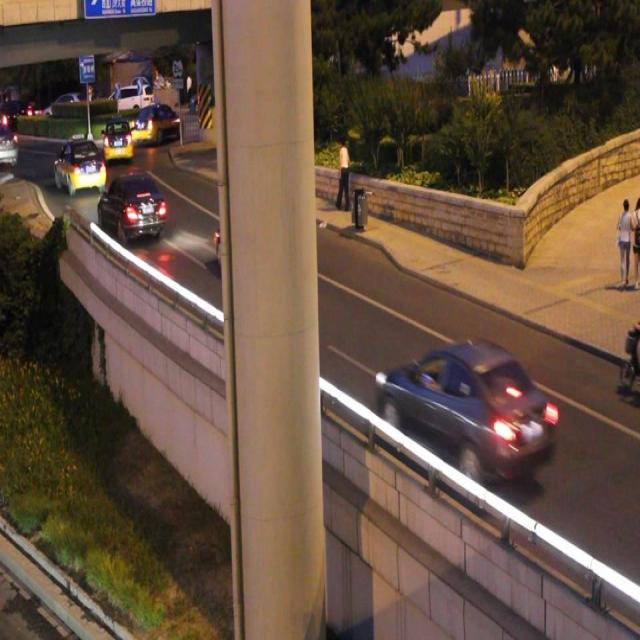car: (374, 343, 553, 475), (100, 175, 164, 236), (214, 214, 279, 271), (56, 142, 105, 188), (135, 104, 184, 140), (104, 118, 133, 159)
